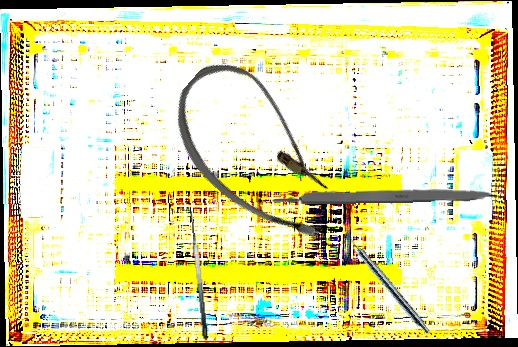Cannula: (148, 46, 370, 259)
Handpiece: (341, 228, 434, 337)
Scalpel Handle: (269, 186, 500, 205)
Spatula Surgical: (180, 206, 209, 341)
